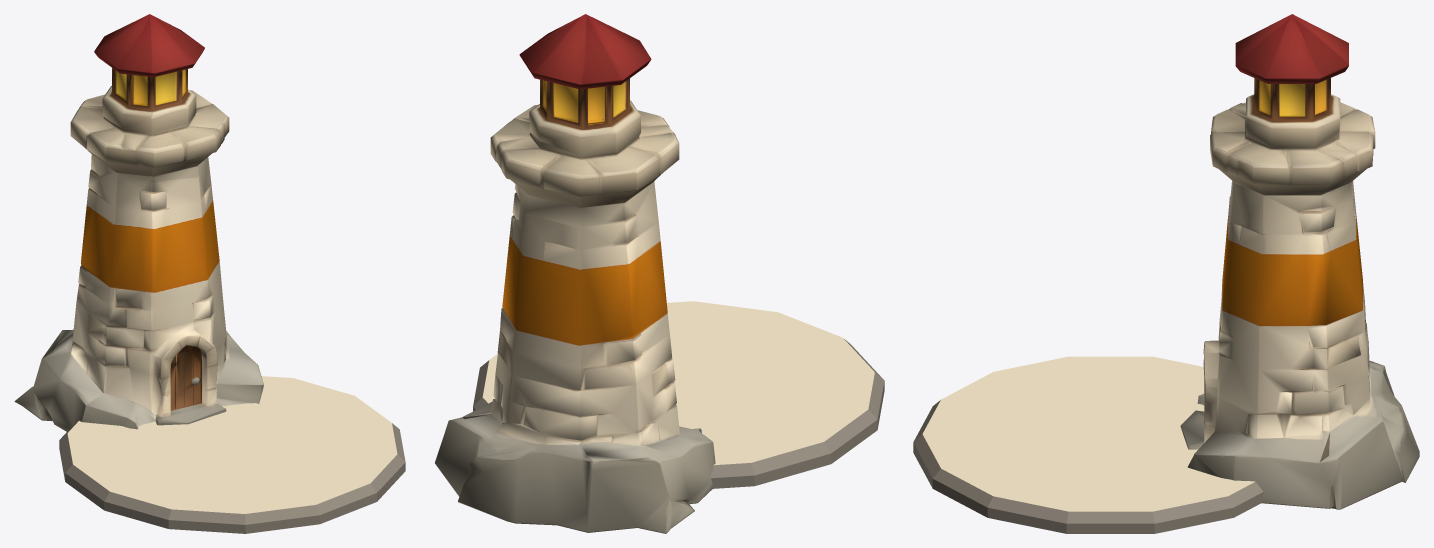
The picture shows the model from 3 angles, left to right: view 1: azimuth 30°, elevation 25°; view 2: azimuth 150°, elevation 25°; view 3: azimuth 270°, elevation 25°; orthographic projection. The views are drawn at different scales.
Visible parts, largest first — view 1: coast-landmark; view 2: coast-landmark; view 3: coast-landmark.
Part boxes in pixels (x1,y1,x2,y2): coast-landmark: (14, 14, 405, 533); coast-landmark: (435, 14, 884, 533); coast-landmark: (913, 14, 1419, 533).
Bounding box in the file's own units: 2.63 × 3.3 × 3.46.
Materials: 1 (1 with a texture image).
